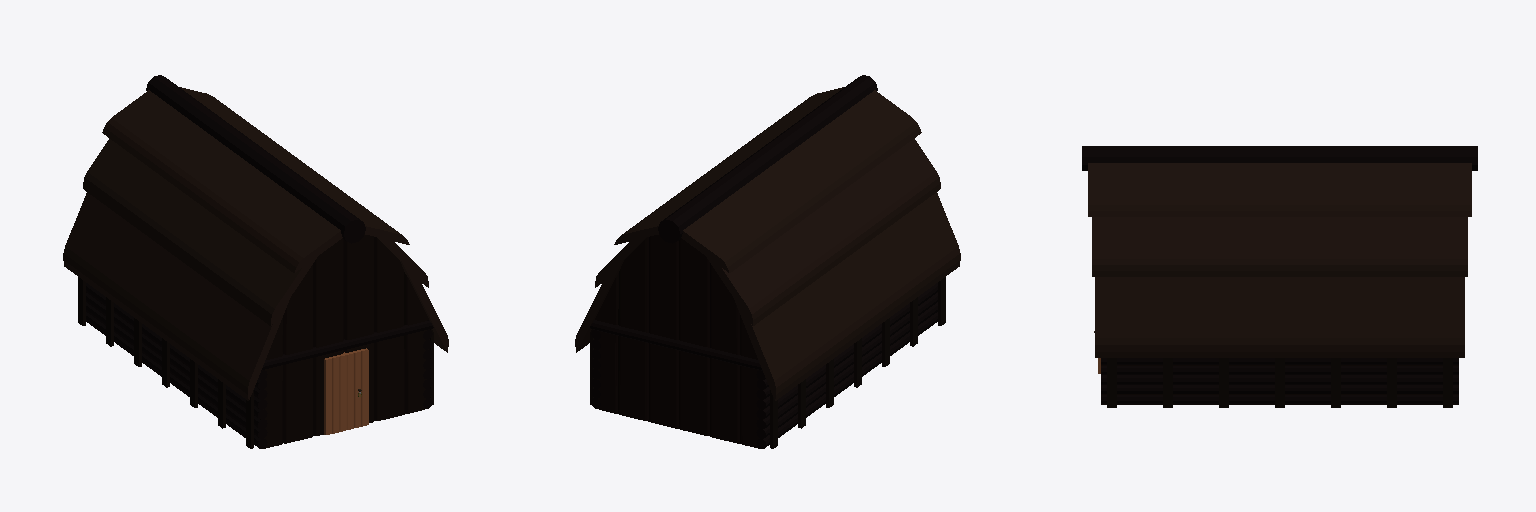
The model's file is House1DetailCombined.obj.
3 renders of one model, left to right at view 1: azimuth 30°, elevation 25°; view 2: azimuth 150°, elevation 25°; view 3: azimuth 270°, elevation 25°, orthographic.
Visible parts, largest first — view 1: house1; view 2: house1; view 3: house1.
Part boxes in pixels (x1,y1,x2,y2): house1: (63,75,448,448); house1: (575,75,960,448); house1: (1082,146,1477,407).
Size of the model in its own units: 12.43 by 12.78 by 21.19.